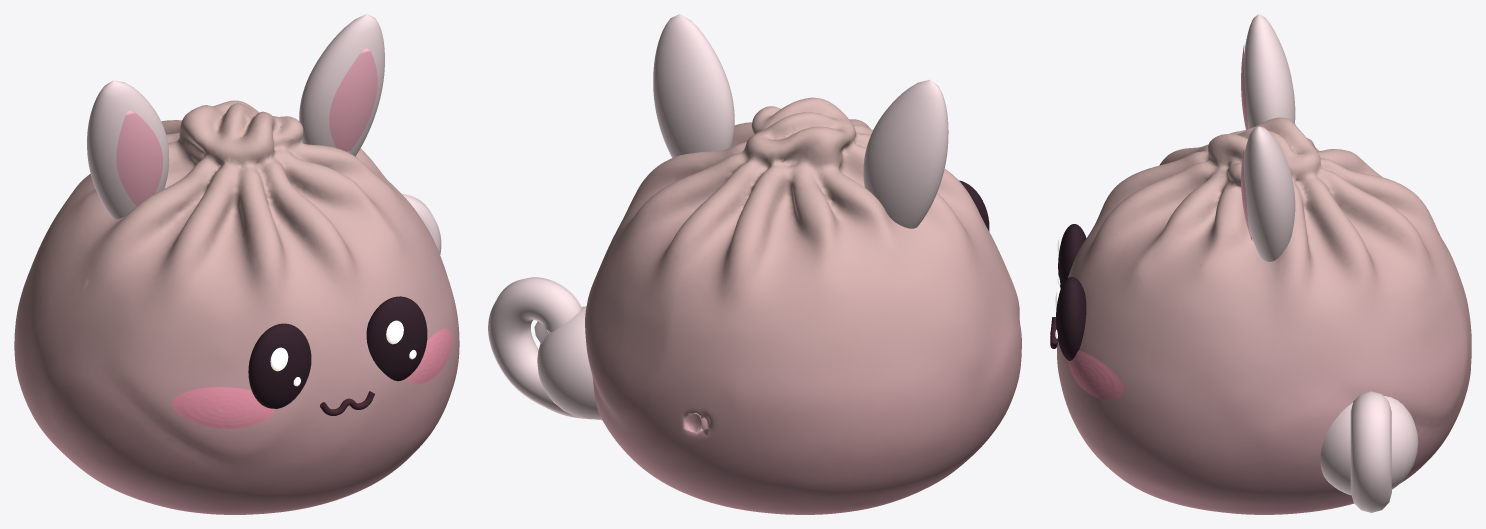
Rendered from MimoCharacter.fbx.
The picture shows the model from 3 angles, left to right: view 1: azimuth 30°, elevation 25°; view 2: azimuth 150°, elevation 25°; view 3: azimuth 270°, elevation 25°; orthographic projection. The views are drawn at different scales.
Visible parts, largest first — view 1: Body, Ear.L, Ear.R, Eye.L, Eye.R, InnerEar.R, Blush.L, InnerEar.L, Blush.R, Tail.Curl; view 2: Body, Ear.L, Ear.R, Tail.Curl, Tail.Puff; view 3: Body, Ear.R, Tail.Curl, Ear.L, Tail.Puff, Eye.R, Blush.R, Eye.L.
Boxes of the visible parts, bbox=[...] form: Body: bbox=[14, 100, 459, 514]; Ear.L: bbox=[87, 80, 169, 219]; Ear.R: bbox=[299, 14, 384, 156]; Eye.L: bbox=[248, 323, 311, 408]; Eye.R: bbox=[366, 296, 427, 381]; InnerEar.R: bbox=[329, 47, 377, 152]; Blush.L: bbox=[172, 387, 274, 428]; InnerEar.L: bbox=[116, 110, 162, 206]; Blush.R: bbox=[406, 328, 451, 384]; Tail.Curl: bbox=[402, 194, 441, 254]; Body: bbox=[585, 97, 1021, 514]; Ear.L: bbox=[863, 79, 948, 228]; Ear.R: bbox=[653, 14, 734, 157]; Tail.Curl: bbox=[488, 277, 601, 420]; Tail.Puff: bbox=[537, 306, 601, 419]; Body: bbox=[1057, 117, 1471, 514]; Ear.R: bbox=[1243, 126, 1295, 261]; Tail.Curl: bbox=[1350, 391, 1391, 512]; Ear.L: bbox=[1243, 14, 1295, 129]; Tail.Puff: bbox=[1320, 395, 1418, 495]; Eye.R: bbox=[1056, 277, 1086, 360]; Blush.R: bbox=[1068, 350, 1123, 399]; Eye.L: bbox=[1058, 224, 1086, 288].
Size of the model in its own units: 3.23 by 2.86 by 2.77.
